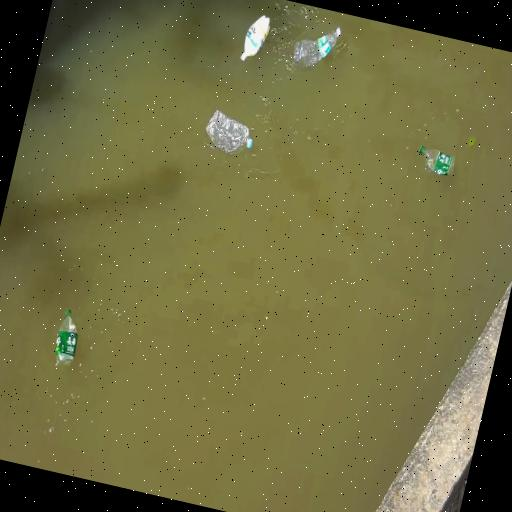plastic: (206, 109, 252, 154), (293, 28, 340, 67), (55, 309, 78, 369), (241, 16, 270, 61), (420, 146, 454, 176)
